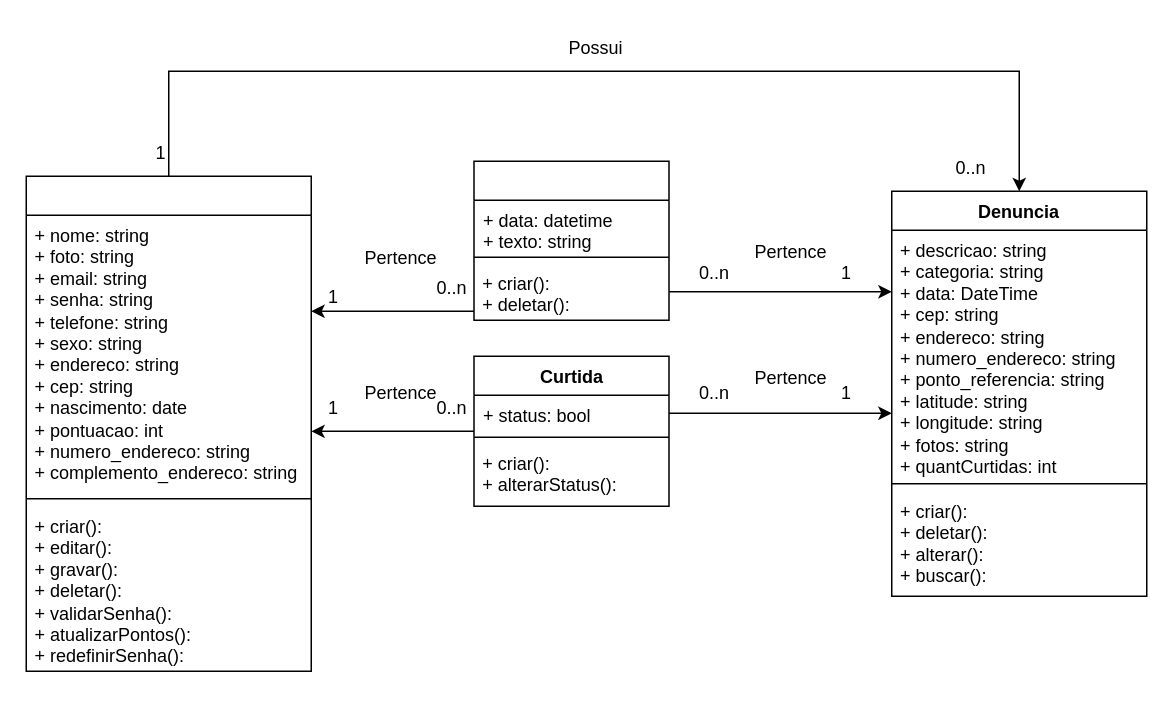
The diagram is 1173 pixels wide and 701 high, and some of its shapes have lost their labels. The box of each missing label's shape, as (x1, y1, x2, y2) in pixels:
Comentario: (472, 160, 669, 320)
Usuario: (25, 175, 311, 671)
